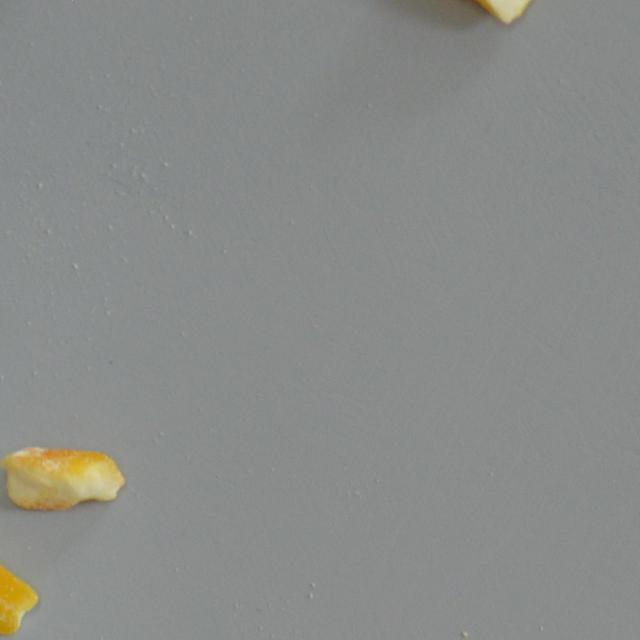pelicula: (0, 446, 126, 513), (0, 509, 40, 636)
